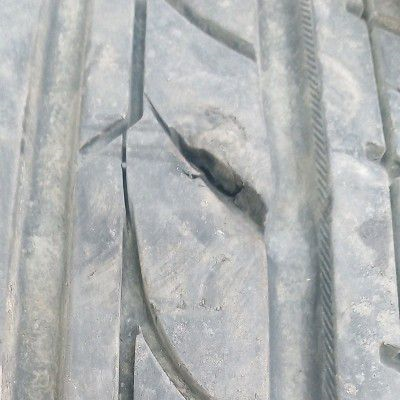tr: (159, 126, 272, 245)
